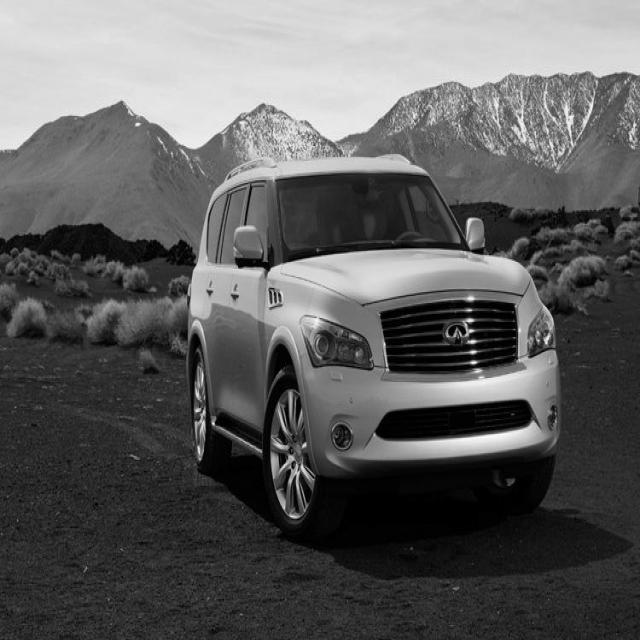car: (185, 151, 562, 542)
